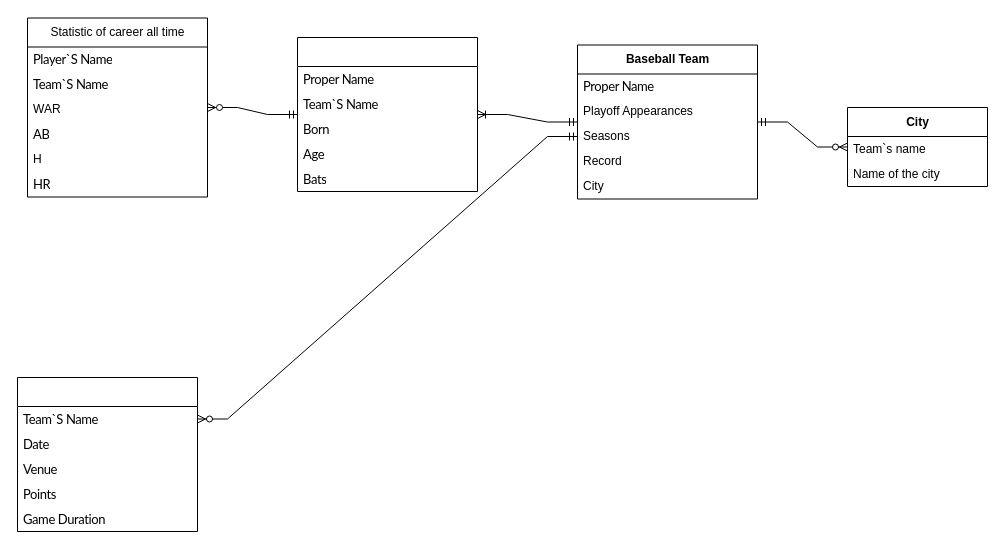
The diagram is 1005 pixels wide and 549 high, and some of its shapes have lost their labels. Each missing label, with the box of its shape:
Baseball Player: (296, 36, 478, 192)
Statistic of matches: (16, 376, 198, 532)
